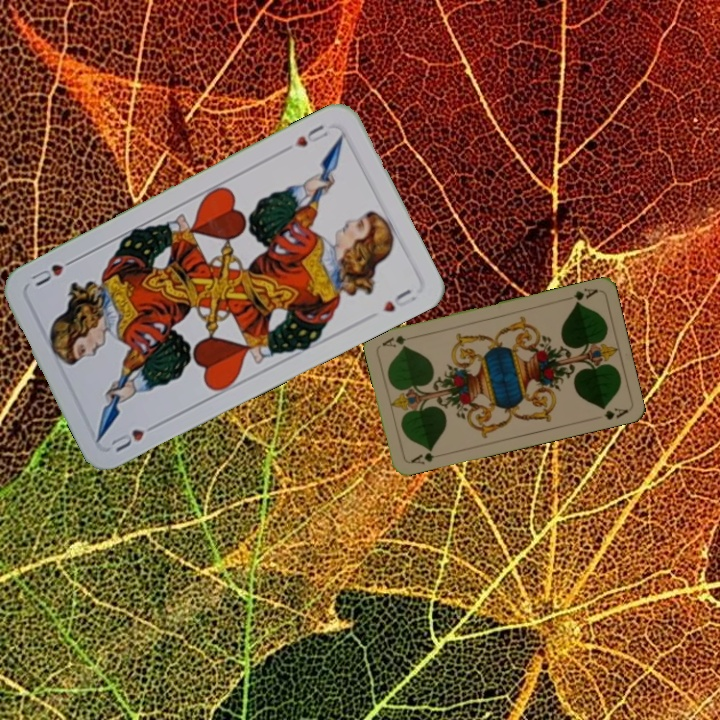GA: (561, 284, 600, 307), (405, 445, 437, 467)
HU: (107, 418, 162, 455), (290, 120, 334, 150)
